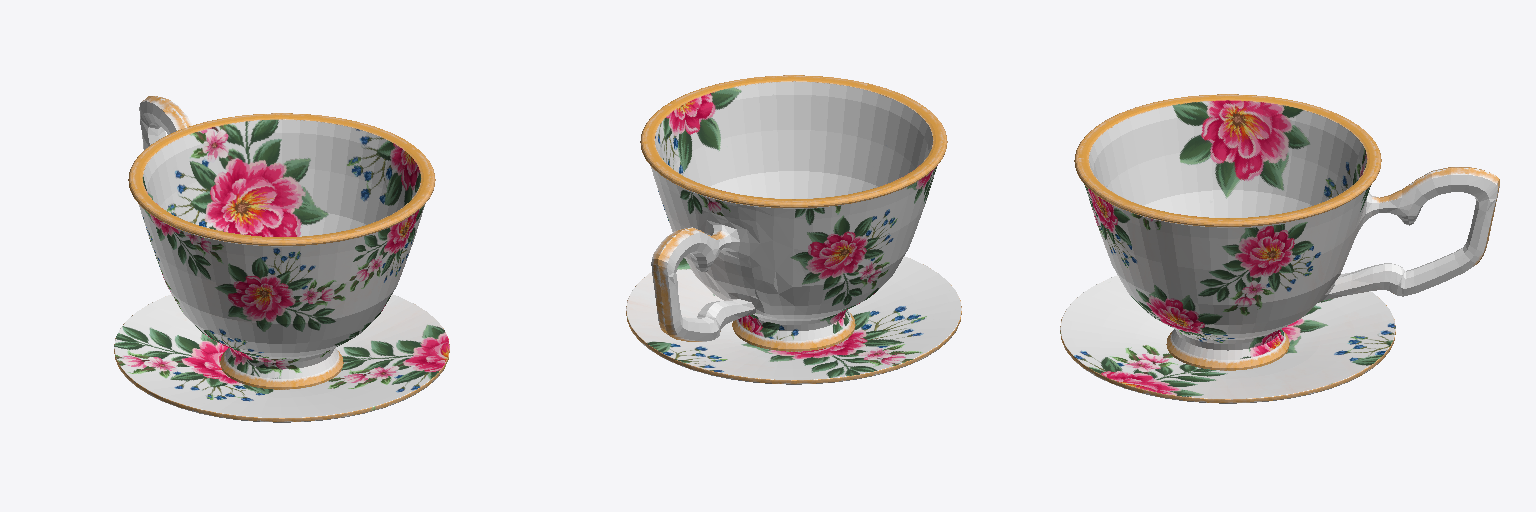
3 views of the same model, side by side, from view 1: azimuth 30°, elevation 25°; view 2: azimuth 150°, elevation 25°; view 3: azimuth 270°, elevation 25° (orthographic).
Visible parts, largest first — view 1: cup_Mesh; view 2: cup_Mesh; view 3: cup_Mesh.
Boxes of the visible parts, x1=… form: cup_Mesh: x1=114, y1=96, x2=449, y2=422; cup_Mesh: x1=626, y1=75, x2=961, y2=384; cup_Mesh: x1=1060, y1=94, x2=1499, y2=403.
Size of the model in its own units: 0.6885 by 0.4428 by 0.9012.
Materials: 2 (1 with a texture image).